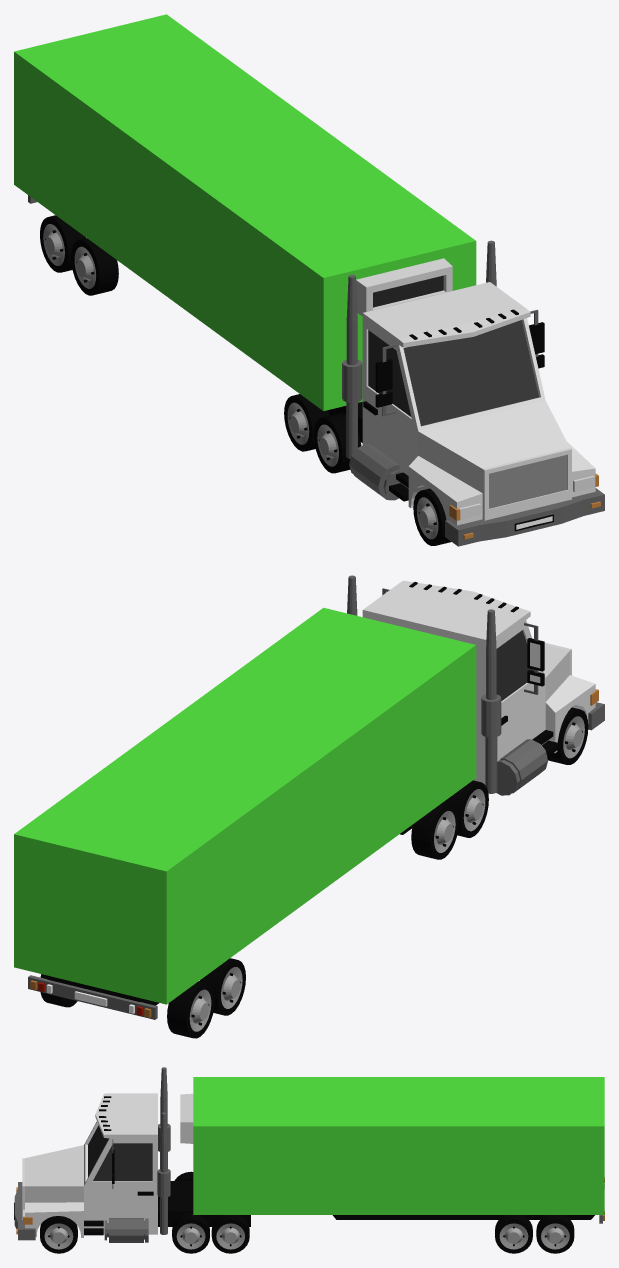
Rendered from towtruck.glb.
3 renders of one model, top to bottom at view 1: azimuth 30°, elevation 25°; view 2: azimuth 150°, elevation 25°; view 3: azimuth 270°, elevation 25°, orthographic. The views are drawn at different scales.
Parts seen in each view (by area): view 1: trailer, truck, rear_wheel.006, rear_wheel.004, rear_wheel.007, rear_wheel.005, front_wheel.001; view 2: trailer, truck, rear_wheel.007, rear_wheel.005, rear_wheel.006, rear_wheel.004, front_wheel.001; view 3: trailer, truck, rear_wheel.001, rear_wheel.003, rear_wheel.002, rear_wheel, front_wheel.002.
Boxes of the visible parts, x1=… form: trailer: x1=14, y1=14, x2=476, y2=411; truck: x1=328, y1=240, x2=604, y2=546; rear_wheel.006: x1=71, y1=238, x2=118, y2=295; rear_wheel.004: x1=314, y1=413, x2=361, y2=473; rear_wheel.007: x1=40, y1=215, x2=85, y2=272; rear_wheel.005: x1=284, y1=394, x2=329, y2=451; front_wheel.001: x1=413, y1=488, x2=451, y2=545; trailer: x1=14, y1=607, x2=476, y2=1019; truck: x1=347, y1=575, x2=604, y2=834; rear_wheel.007: x1=167, y1=981, x2=214, y2=1038; rear_wheel.005: x1=411, y1=802, x2=458, y2=859; rear_wheel.006: x1=200, y1=958, x2=245, y2=1015; rear_wheel.004: x1=443, y1=780, x2=488, y2=837; front_wheel.001: x1=547, y1=707, x2=588, y2=764; trailer: x1=180, y1=1077, x2=604, y2=1223; truck: x1=14, y1=1067, x2=250, y2=1242; rear_wheel.001: x1=172, y1=1213, x2=209, y2=1253; rear_wheel.003: x1=536, y1=1215, x2=574, y2=1253; rear_wheel.002: x1=211, y1=1215, x2=249, y2=1253; rear_wheel: x1=495, y1=1215, x2=532, y2=1253; front_wheel.002: x1=40, y1=1216, x2=77, y2=1253.
Size of the model in its own units: 2.67 by 3.14 by 12.11.
Materials: 3 (1 with a texture image).
